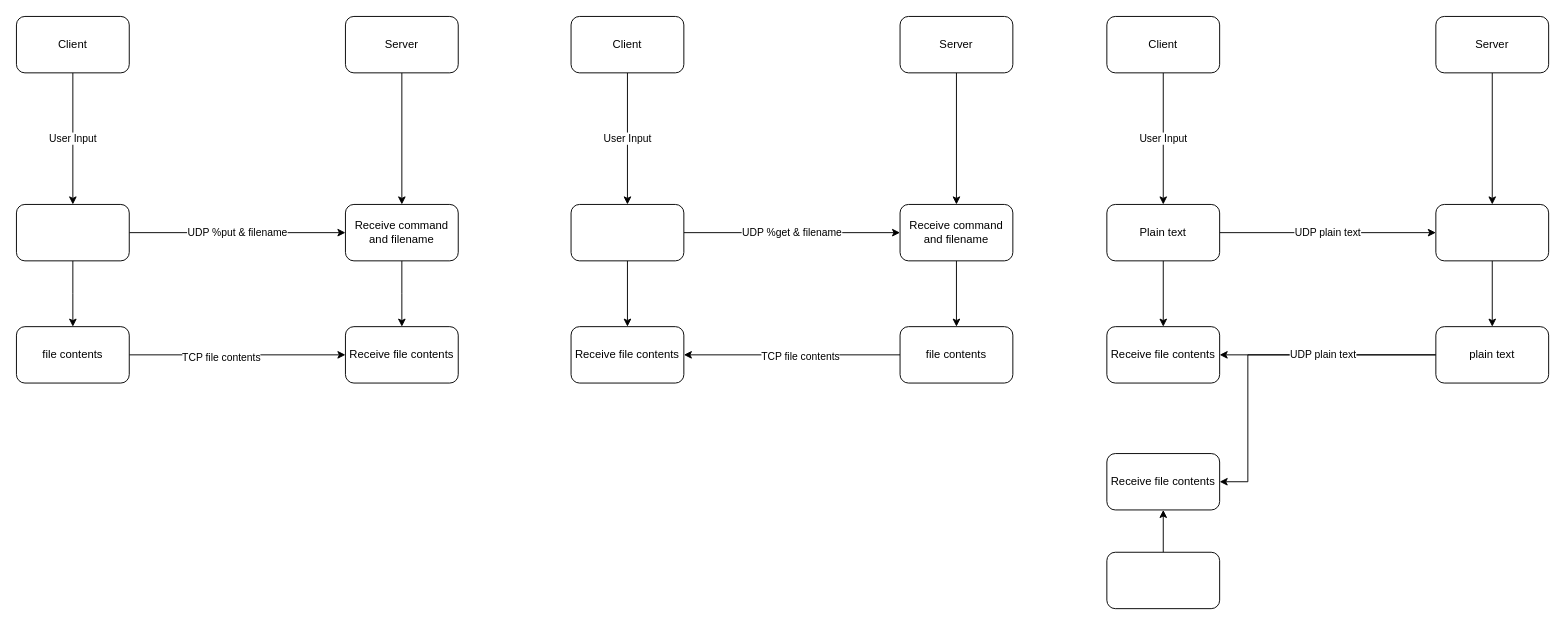
This 1565x625 diagram has some shape labels left out. The shapes that lost their labels are listed below. From the top down, each one's centre as x and y in pixels, then its label:
At point 72,232: "%put".
At point 627,232: "%get".
At point 1492,232: "Receive plain text".
At point 1163,580: "All other clients".
